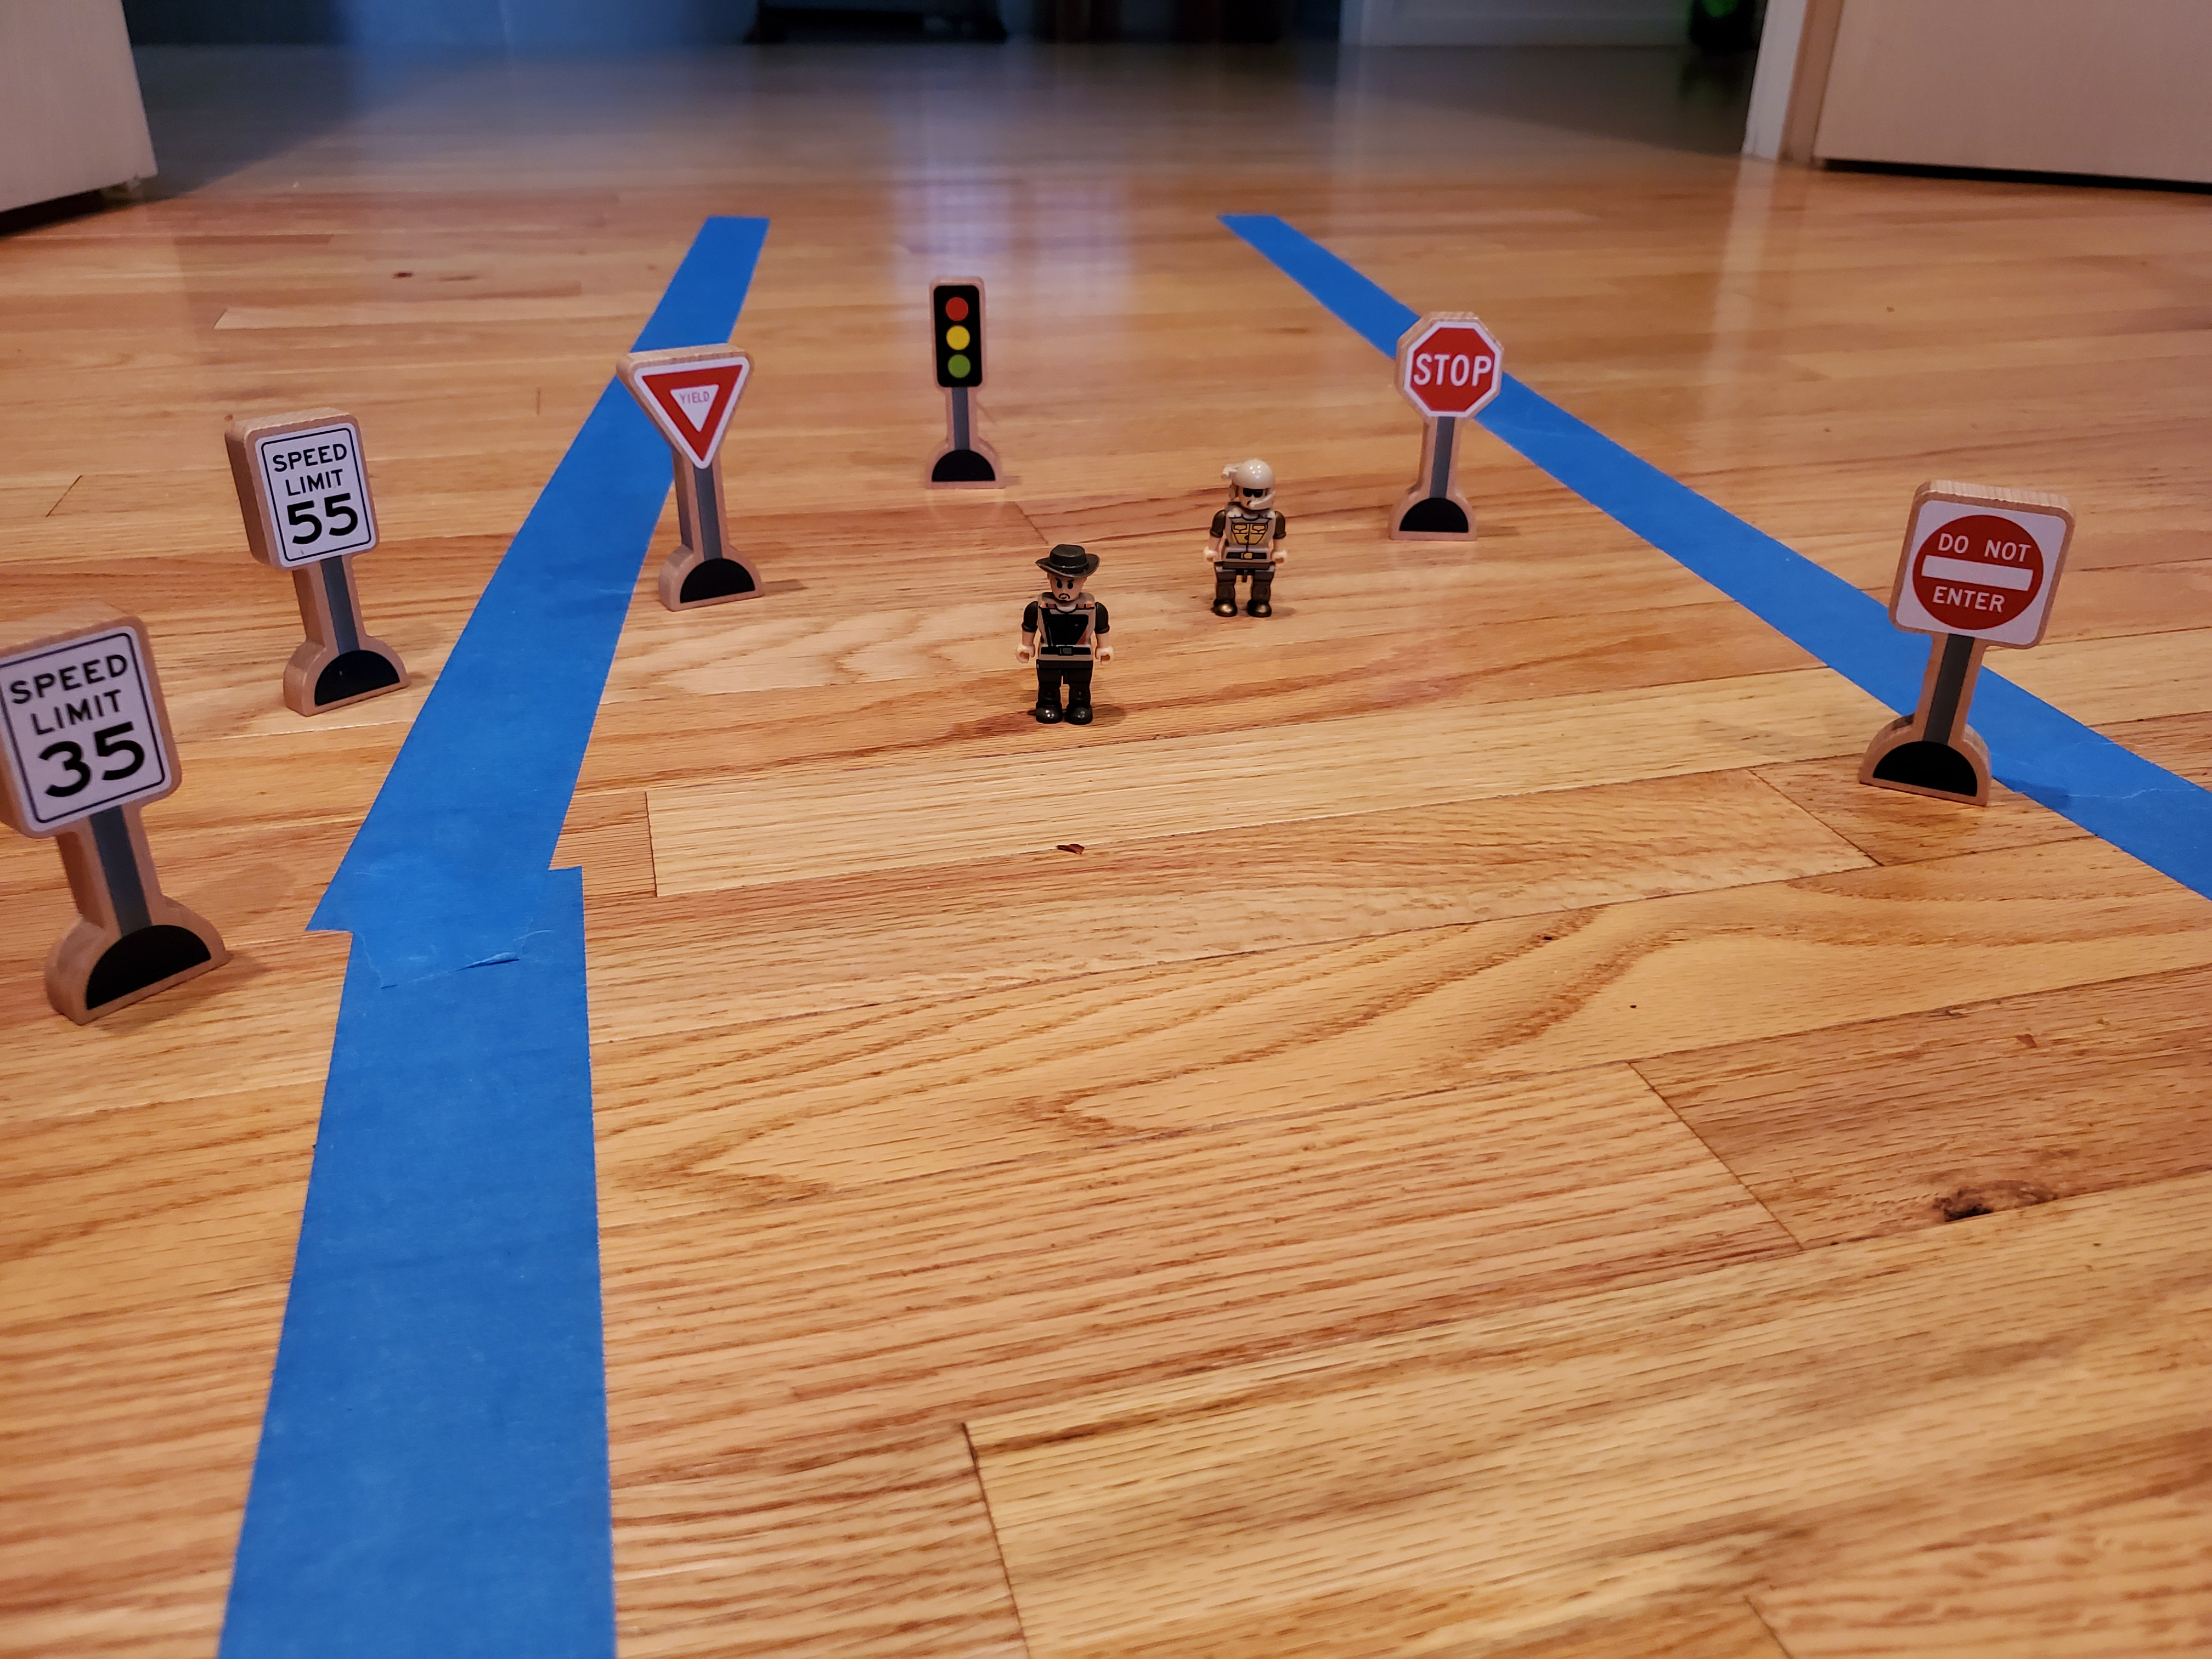Do Not Enter: (1894, 465, 2071, 664)
Red Traffic Light: (923, 270, 992, 403)
Speed Limit 35: (1, 623, 192, 836)
Speed Limit 55: (221, 401, 387, 572)
Stop Sign: (1388, 297, 1507, 430)
Yield Sign: (610, 337, 763, 477)
person: (1013, 541, 1117, 736), (1205, 450, 1300, 631)
